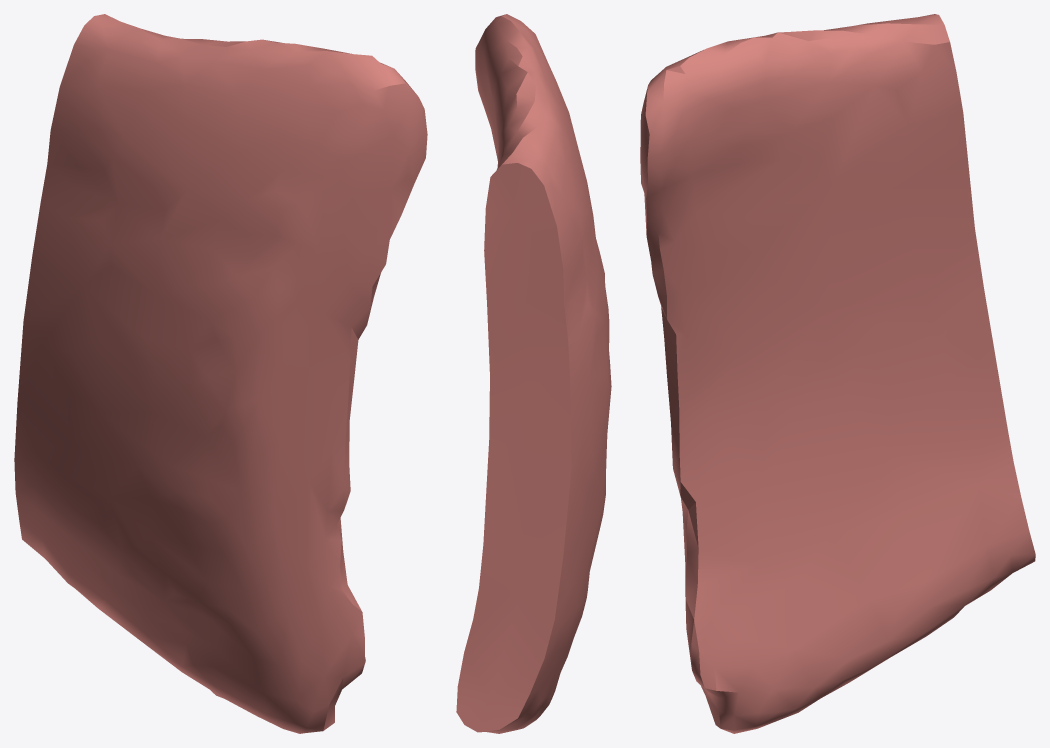
The model's file is fma54490-f_mm2213m.glb.
3 views of the same model, side by side, from view 1: azimuth 30°, elevation 25°; view 2: azimuth 150°, elevation 25°; view 3: azimuth 270°, elevation 25° (orthographic). The views are drawn at different scales.
Parts seen in each view (by area): view 1: FMA54490-F_MM2213M; view 2: FMA54490-F_MM2213M; view 3: FMA54490-F_MM2213M.
Boxes of the visible parts, box(x1,y1,x2,y2) form: FMA54490-F_MM2213M: box(14, 14, 427, 733); FMA54490-F_MM2213M: box(456, 14, 611, 733); FMA54490-F_MM2213M: box(640, 14, 1035, 733).
Bounding box in the file's own units: 0.00322 × 0.00852 × 0.00447.
